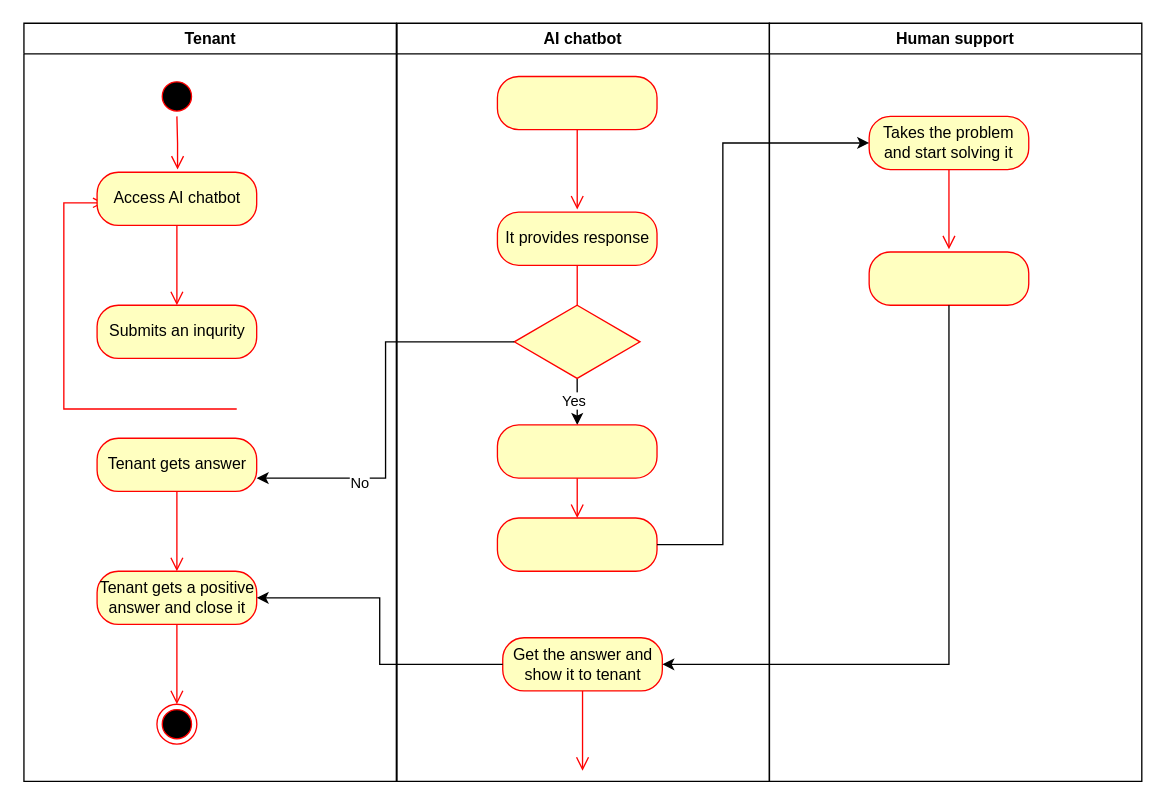
The diagram is 1165 pixels wide and 807 high, and some of its shapes have lost their labels. Here are the shapes that lost their labels. From the top down, the box of each, then its label:
(496, 75, 657, 130): AI chatbot process query
(868, 251, 1029, 305): Provide answer
(513, 304, 640, 378): Is the query complex?
(496, 424, 657, 478): System escalate to human support
(496, 517, 657, 571): Tell the user to wait
